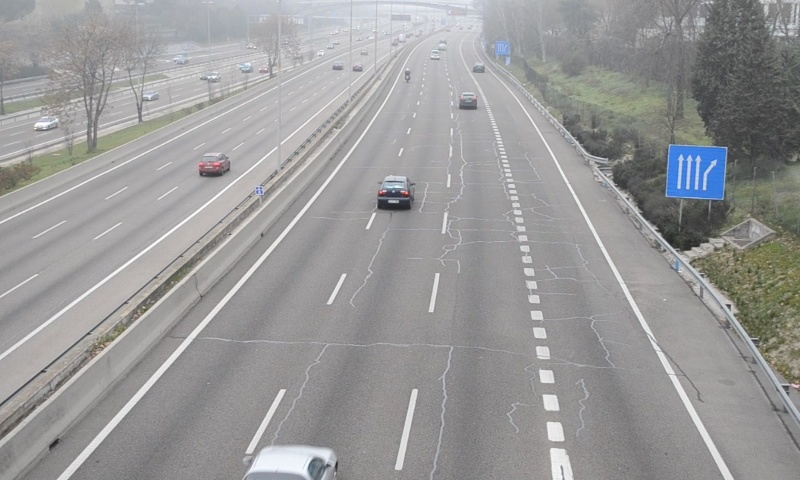car: (376, 176, 415, 210), (459, 91, 478, 110)
motorcycle: (404, 67, 411, 83)
